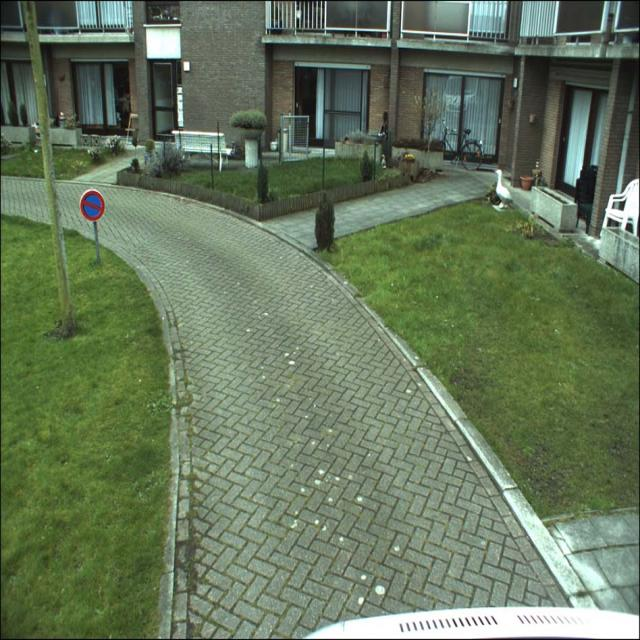parkyasak: (80, 190, 106, 222)
